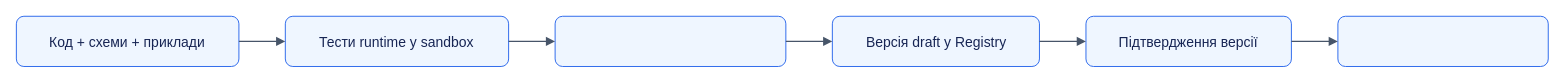
Some shapes in this 1565 by 83 pixel diagram are drawn without their labels. The shapes that lost their labels are listed below. From the top down, each one's centre as x and y in pixels, then its label:
the point at 670,40: Канонічний ZIP + SHA-256
the point at 1442,40: Явна активація в етапі
